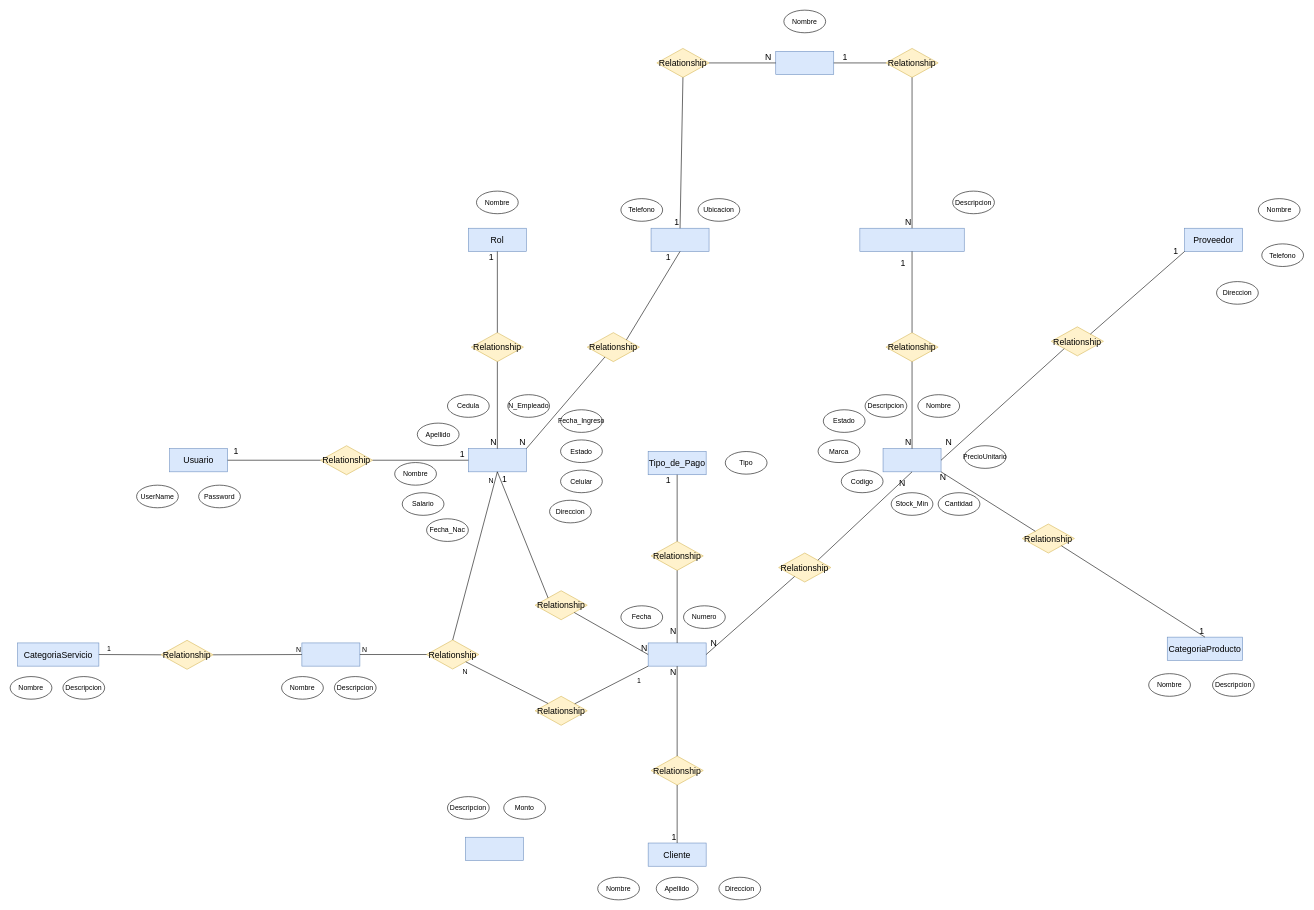
Image size: 1314x910. Some labels were removed from this diagram. The centre of each missing label's shape, as x and y in pixels:
"Bodega" belongs at [804,63].
"Empleado" belongs at [497,460].
"Factura" belongs at [677,654].
"Gastos" belongs at [494,848].
"Localizacion_en_Bodega" belongs at [911,239].
"Productos" belongs at [911,460].
"Servicio" belongs at [330,654].
"Sucursal" belongs at [679,239].
